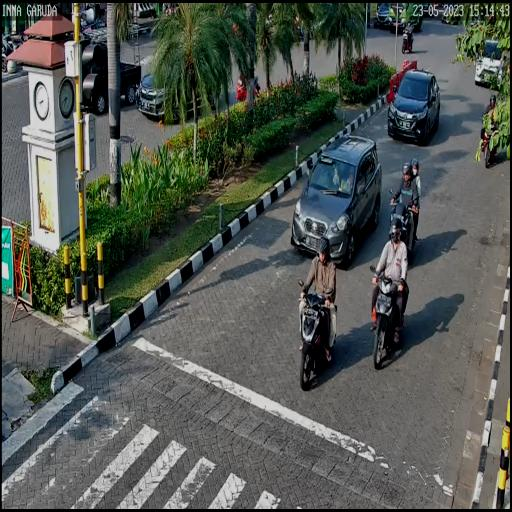mobil: (292, 130, 384, 258), (387, 68, 439, 148)
motor: (294, 280, 338, 391), (370, 258, 407, 371), (388, 191, 421, 263)
